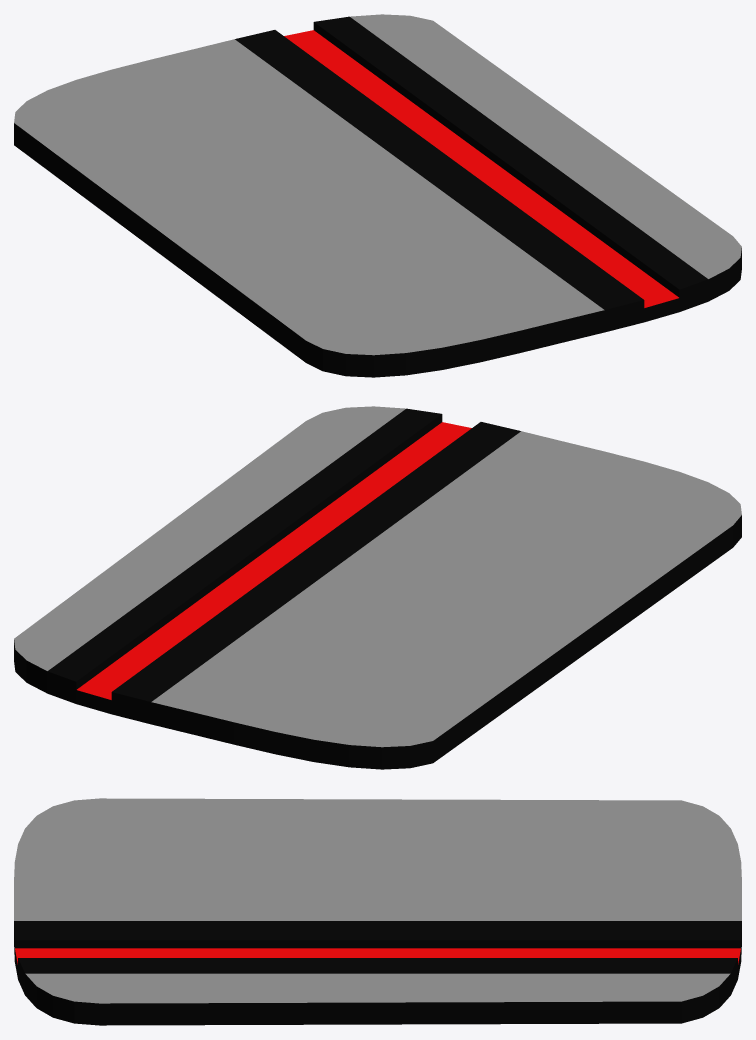
File: KeycardRed.fbx
3 renders of one model, top to bottom at view 1: azimuth 30°, elevation 25°; view 2: azimuth 150°, elevation 25°; view 3: azimuth 270°, elevation 25°, orthographic.
Visible parts, largest first — view 1: Sphere; view 2: Sphere; view 3: Sphere.
Boxes of the visible parts, x1=… form: Sphere: x1=14, y1=14, x2=741, y2=377; Sphere: x1=14, y1=406, x2=741, y2=769; Sphere: x1=14, y1=798, x2=741, y2=1025.
Bounding box in the file's own units: 200 × 10 × 300.
